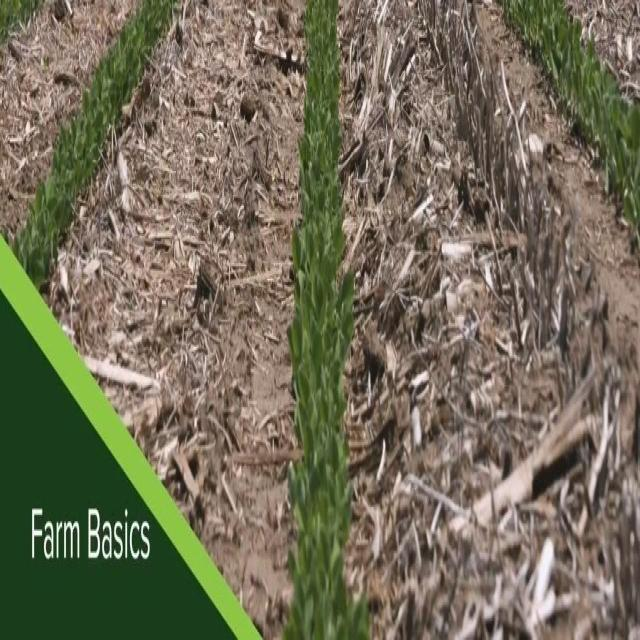row: (342, 0, 640, 640), (43, 1, 307, 640), (0, 1, 140, 238), (568, 0, 640, 117)
